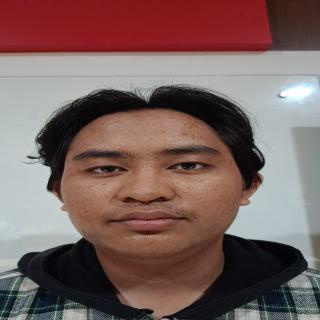Netral: (62, 104, 248, 266)
